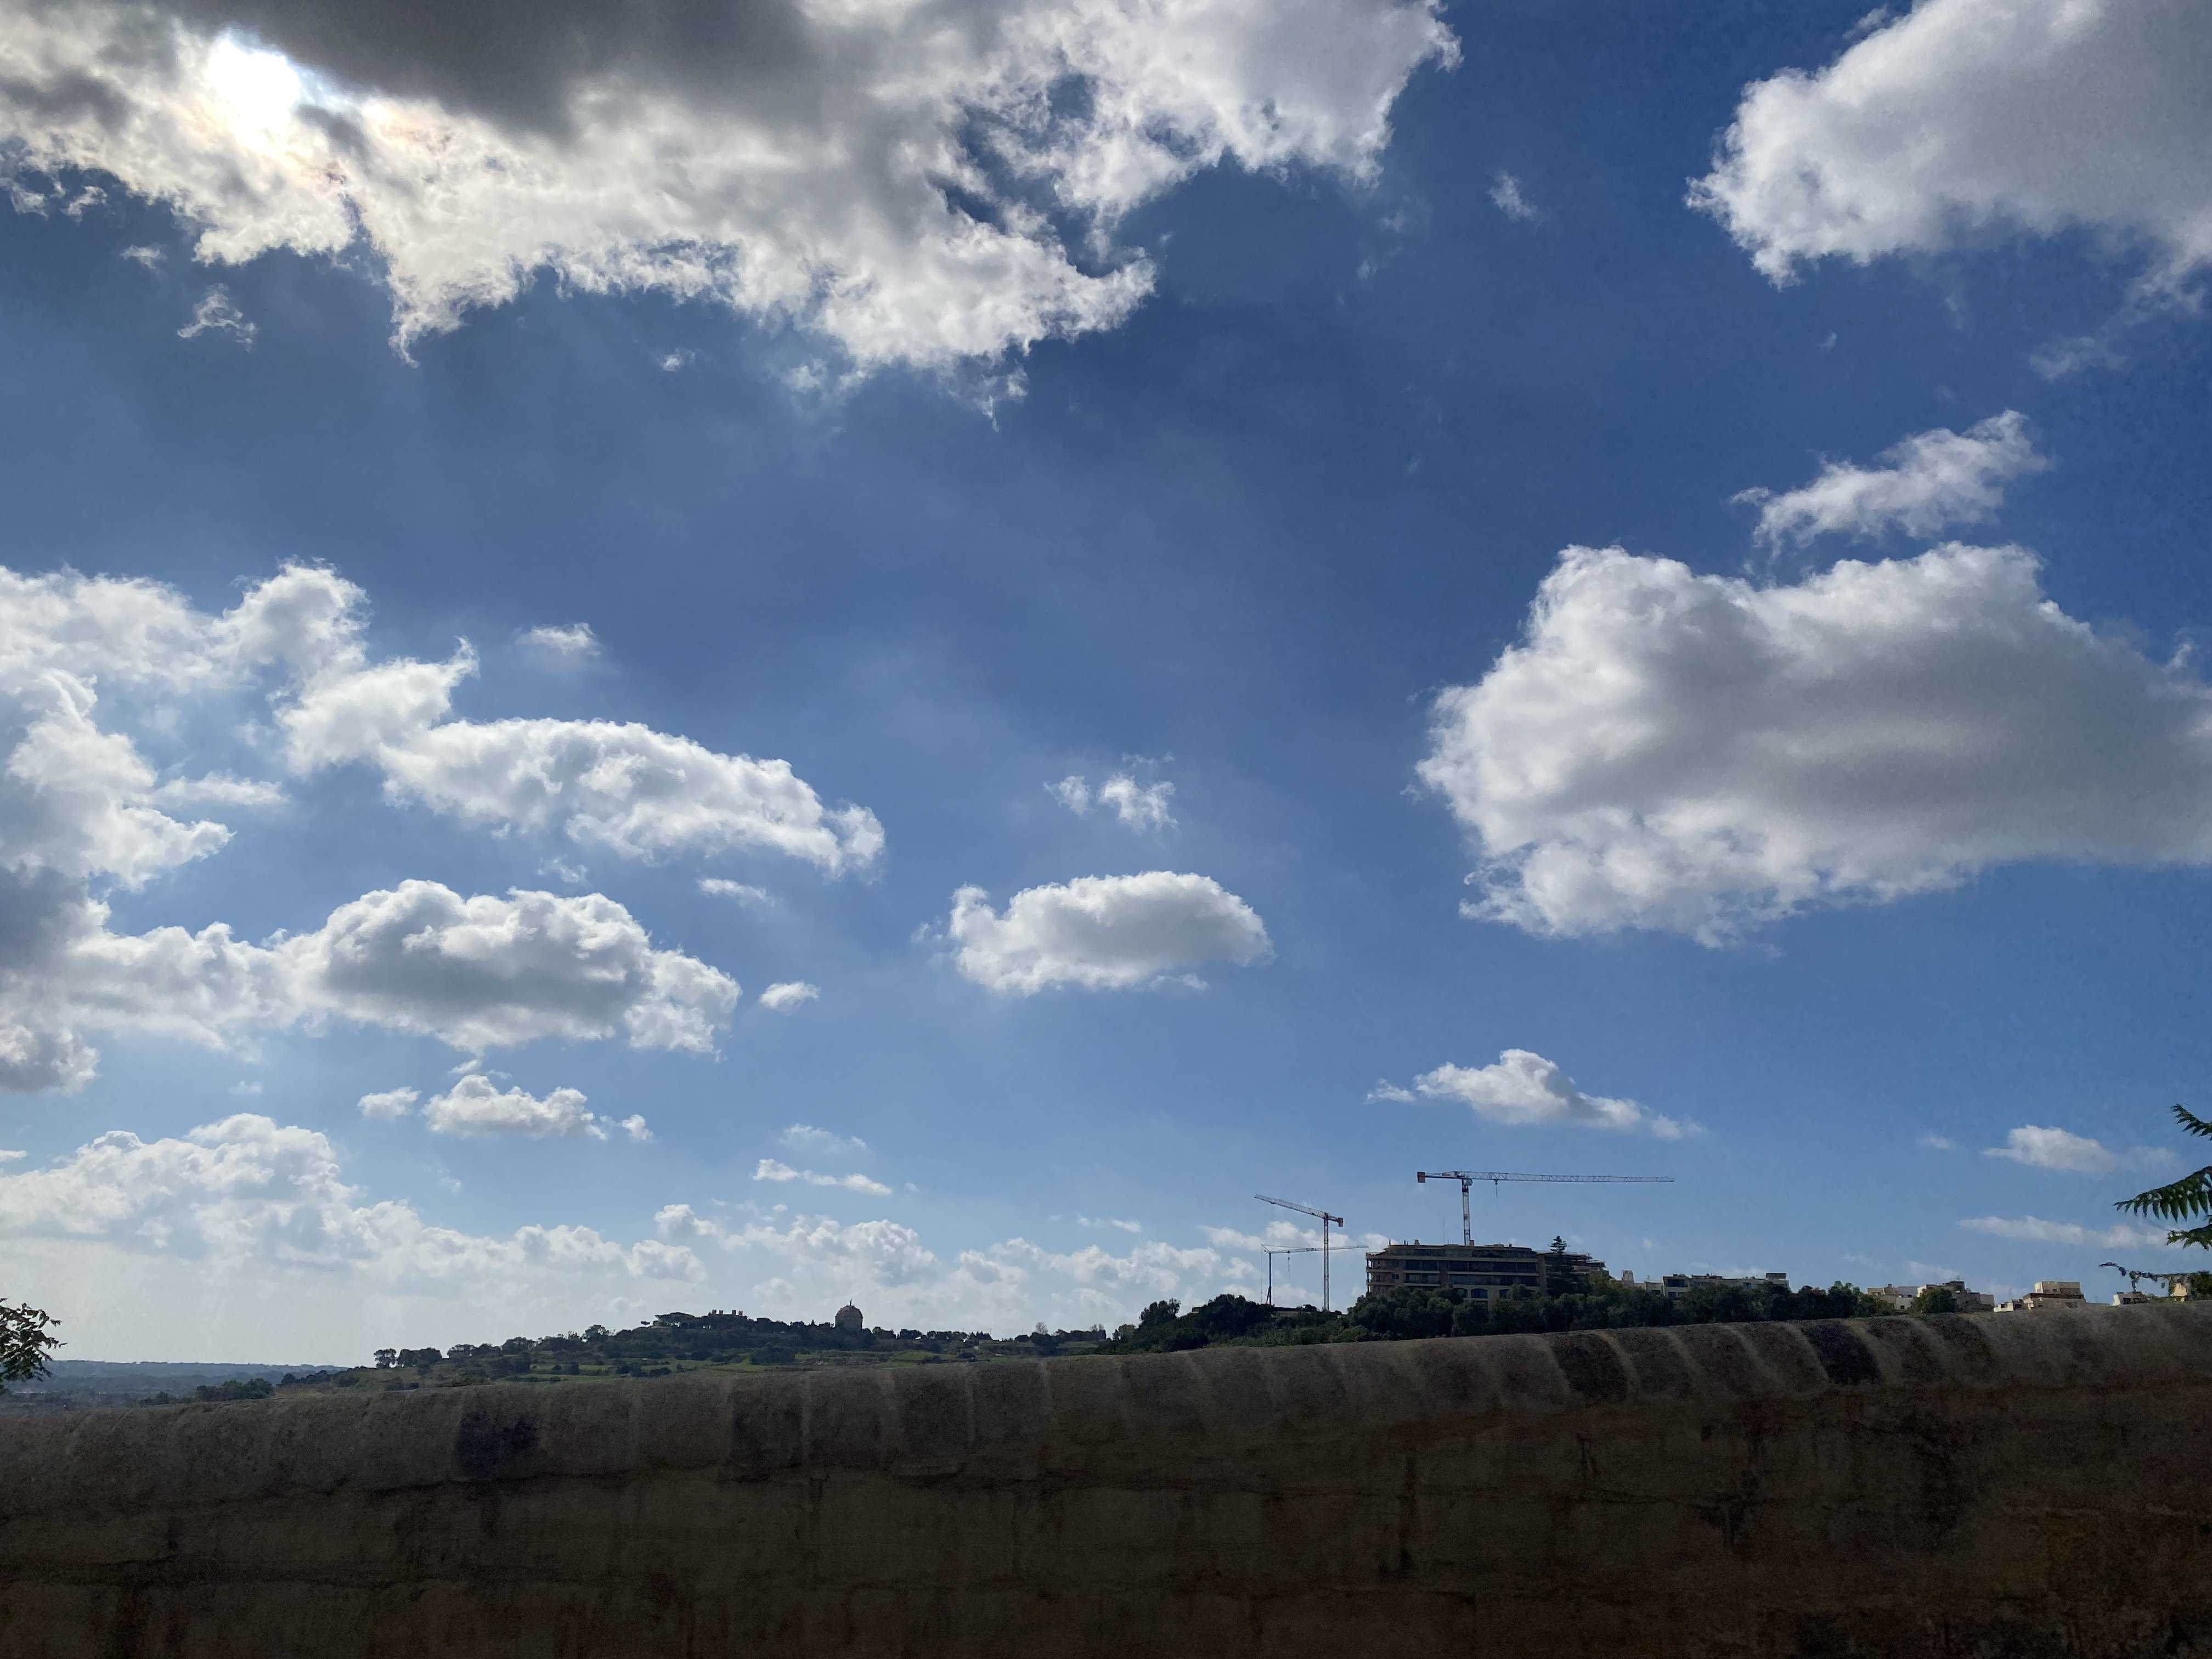crane: (1385, 1150, 1714, 1218), (1240, 1194, 1362, 1276)
